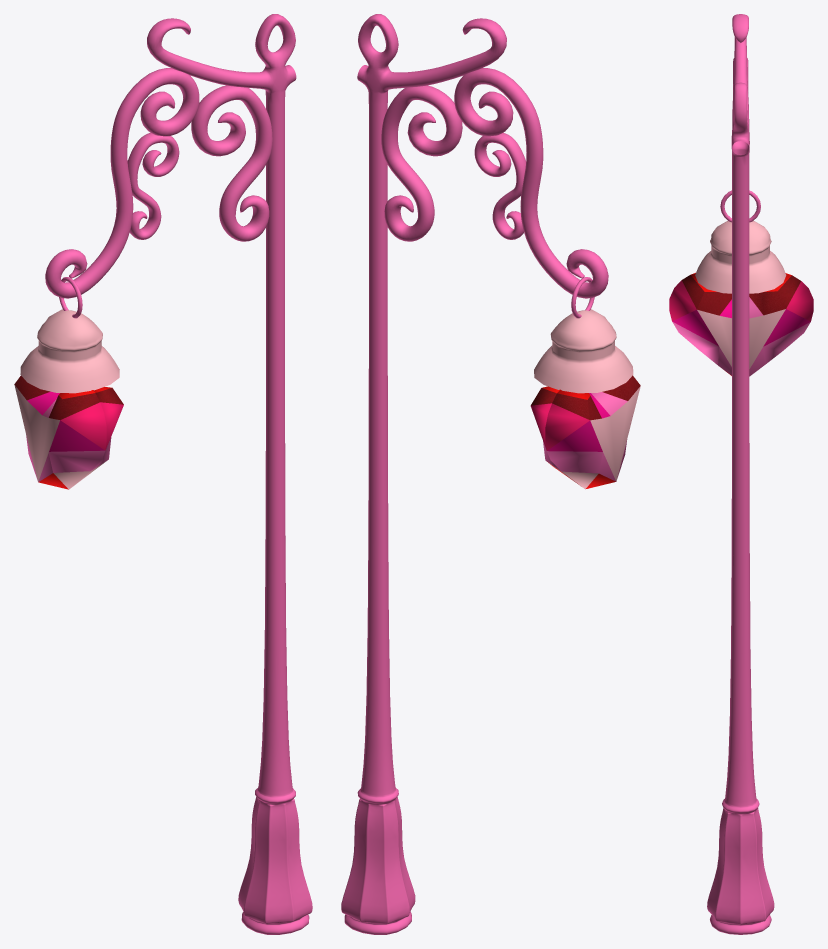
File: LAMPARA_STU_FERIADEF.obj
3 renders of one model, left to right at view 1: azimuth 30°, elevation 25°; view 2: azimuth 150°, elevation 25°; view 3: azimuth 270°, elevation 25°, orthographic. The views are drawn at different scales.
Parts seen in each view (by area): view 1: Lampara_v2; view 2: Lampara_v2; view 3: Lampara_v2.
Part boxes in pixels (x1,y1,x2,y2): Lampara_v2: (14, 14, 312, 934); Lampara_v2: (341, 14, 640, 934); Lampara_v2: (669, 14, 813, 934).
Bounding box in the file's own units: 2.9 × 9.22 × 1.4.
Materials: 18 (18 with a texture image).
